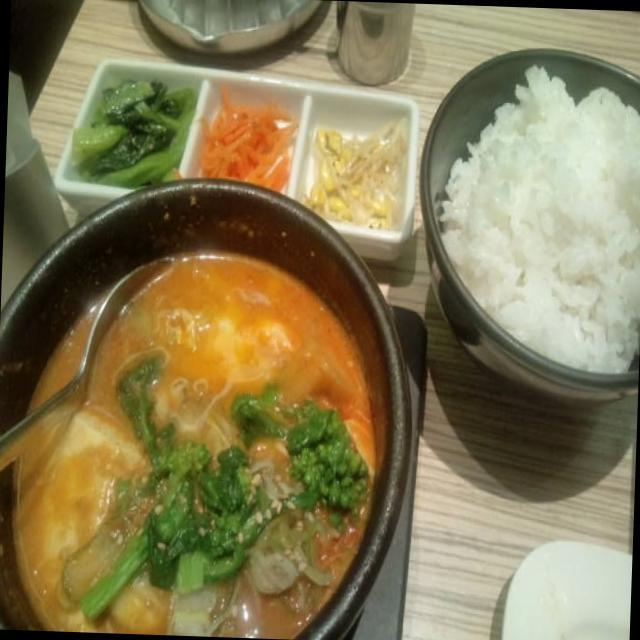Rice: (440, 68, 640, 366)
